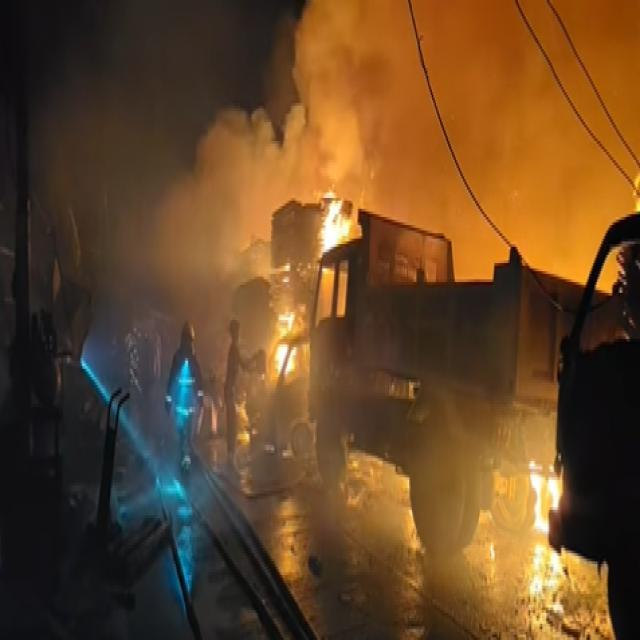Fire: (312, 176, 350, 261), (529, 466, 561, 546), (276, 302, 300, 379)
Smoke: (145, 0, 640, 287)
